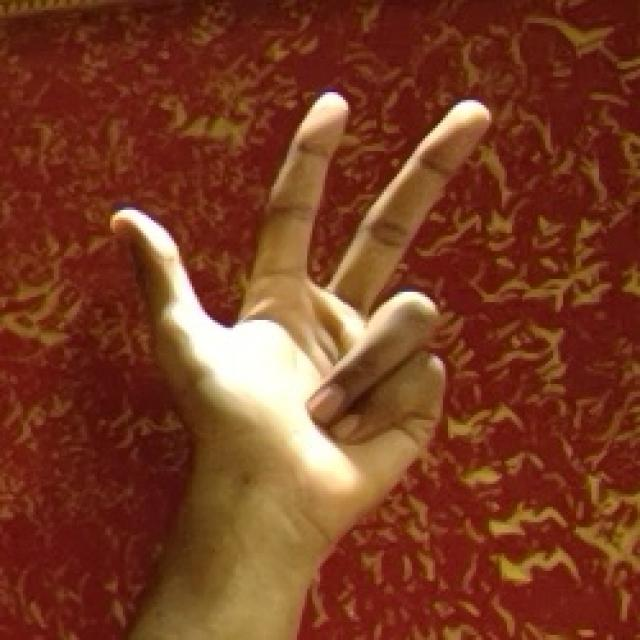Numeric-3: (101, 86, 490, 508)
